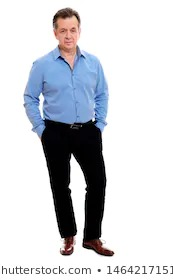F_belt: (42, 114, 96, 131)
F_dress pants: (41, 114, 105, 240)
F_shirt: (20, 44, 110, 140)
